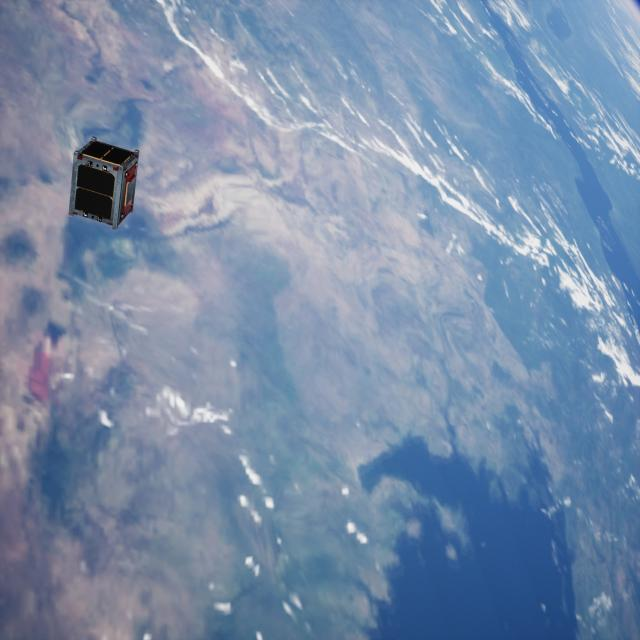medium_debris: (68, 141, 141, 225)
